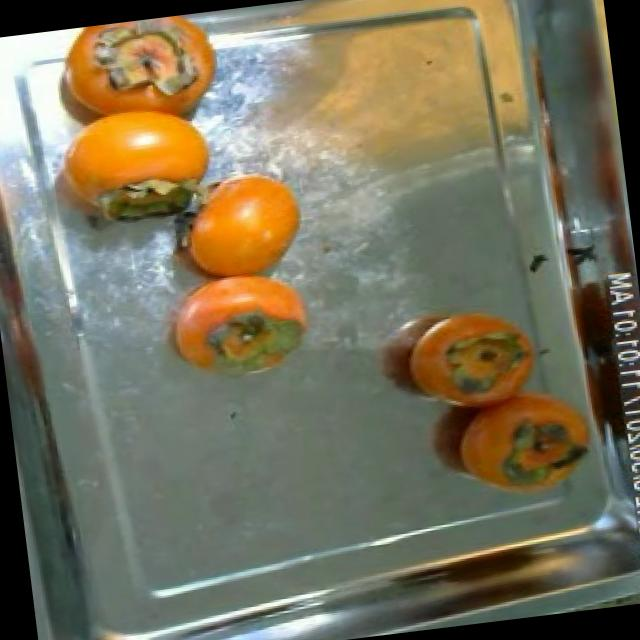Fruit: (144, 152, 328, 302), (144, 252, 328, 390), (426, 367, 607, 501), (386, 288, 557, 416)
